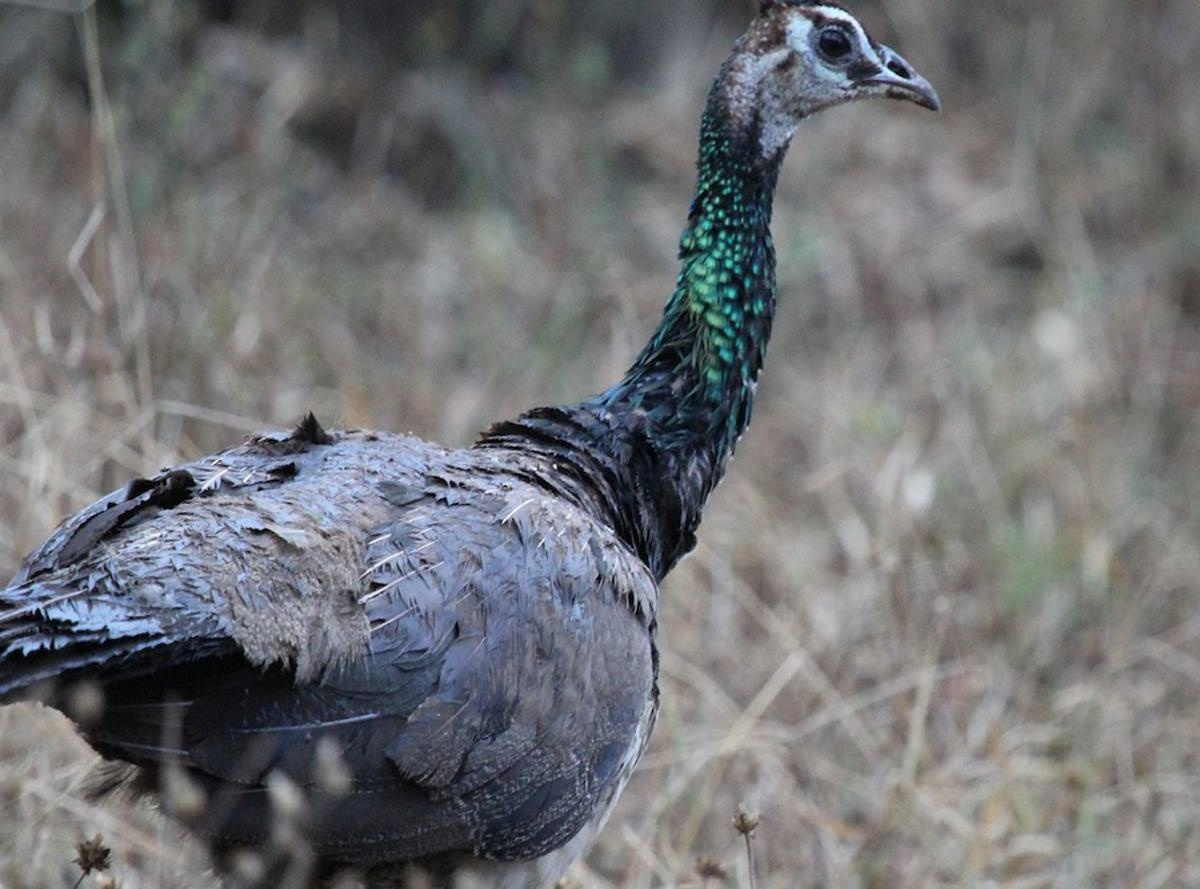peacock: (173, 24, 980, 755)
